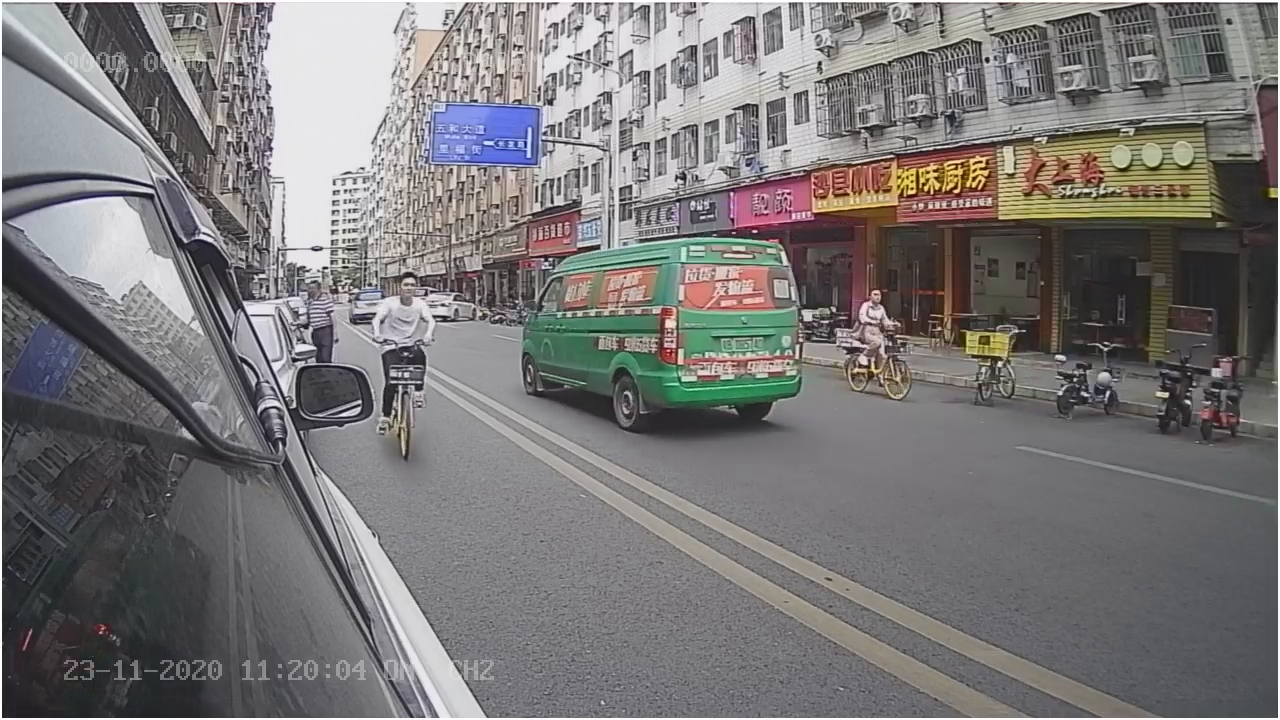person: (363, 267, 439, 349)
